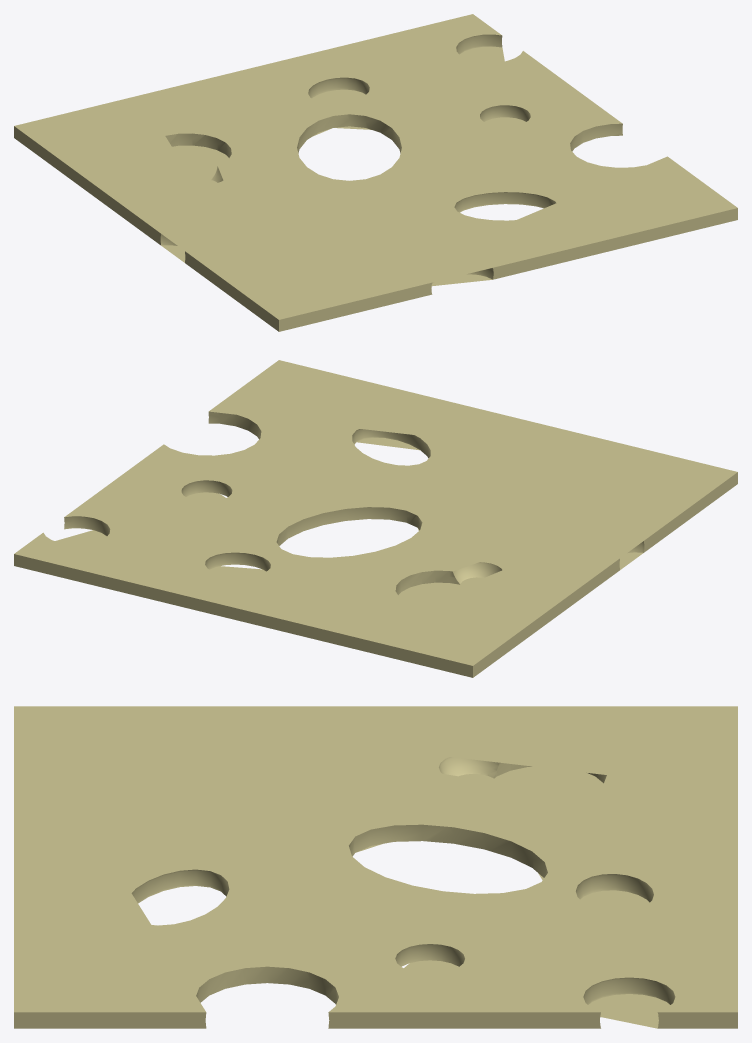
Rendered from swisscheese.fbx.
3 views of the same model, one above another, from view 1: azimuth 30°, elevation 25°; view 2: azimuth 150°, elevation 25°; view 3: azimuth 270°, elevation 25° (orthographic). The views are drawn at different scales.
Parts seen in each view (by area): view 1: pCube13; view 2: pCube13; view 3: pCube13.
Part boxes in pixels (bbox=[...]): pCube13: bbox=[14, 14, 737, 331]; pCube13: bbox=[14, 360, 737, 677]; pCube13: bbox=[14, 706, 737, 1028].
Bounding box in the file's own units: 200 × 5 × 200.
